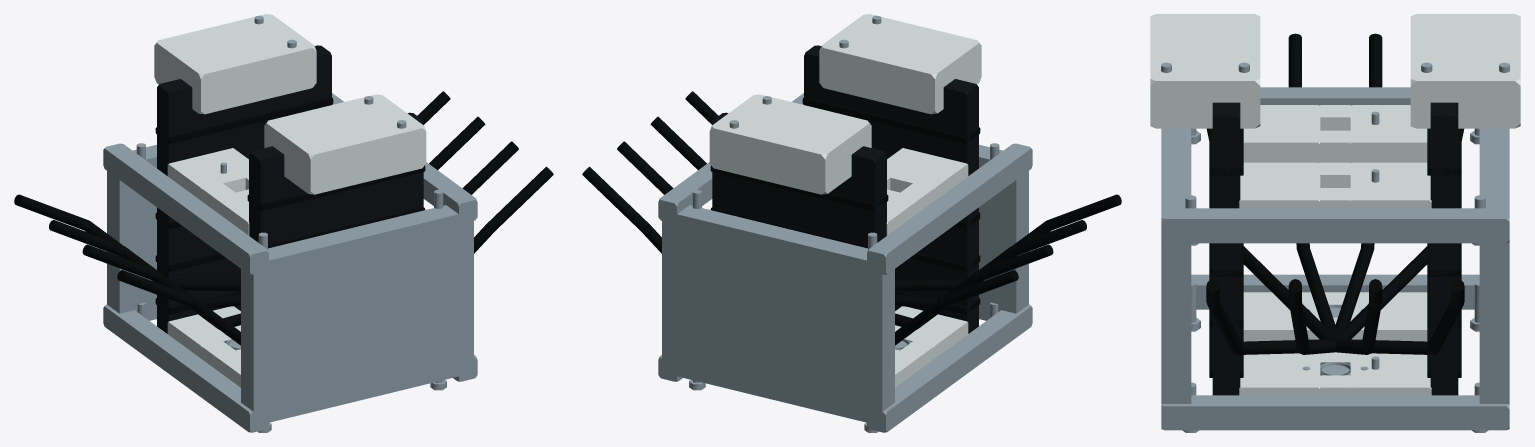
The model's file is payload_lifter_fixed.dae.
3 views of the same model, side by side, from view 1: azimuth 30°, elevation 25°; view 2: azimuth 150°, elevation 25°; view 3: azimuth 270°, elevation 25° (orthographic). The views are drawn at different scales.
Visible parts, largest first — view 1: node0, node1, node2, node3; view 2: node0, node1, node2, node3; view 3: node1, node0, node3, node2.
Boxes of the visible parts, x1,y1,x2,y2 form: node0: (103,15,477,432); node1: (154,14,426,387); node2: (157,45,423,333); node3: (14,91,553,345); node0: (658,15,1032,432); node1: (709,14,981,387); node2: (712,45,978,333); node3: (582,91,1121,345); node1: (1150,14,1520,395); node0: (1161,62,1509,432); node3: (1206,33,1464,377); node2: (1212,102,1458,395).
Size of the model in its own units: 0.5324 by 0.3318 by 0.333.
